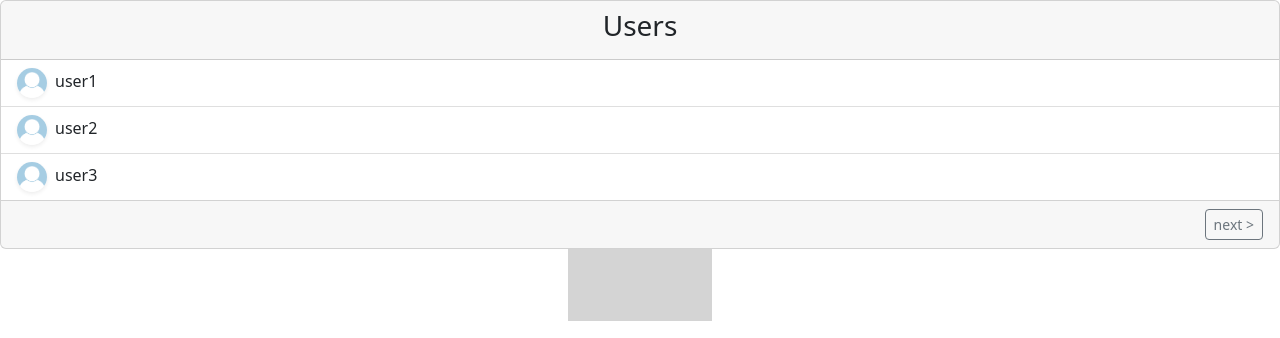
Test: User List › Interactions › displays previous page after clicking previous page link
Expected: the list item "user1" is shown, [1,60,1279,107]
Click the button "next >": (1234, 224) [1205,209,1263,240]
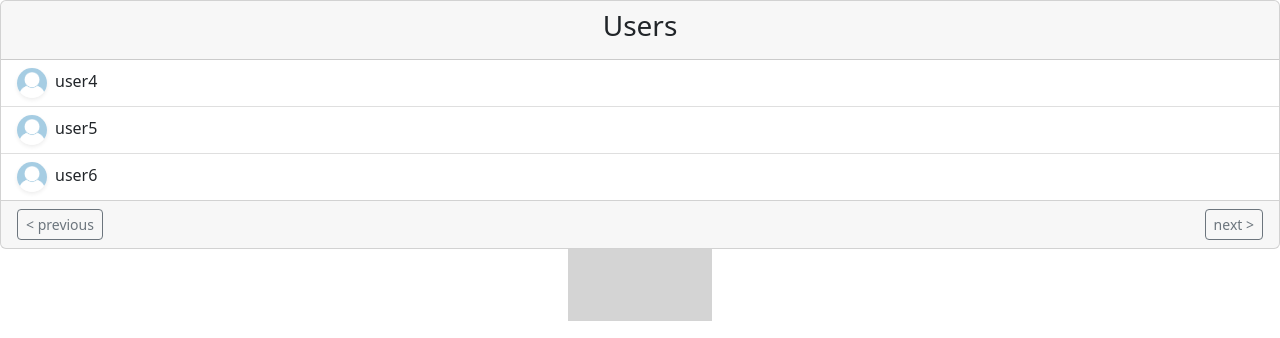
Result: the list item "user4" is shown at [1,60,1279,107]
Click the button "< previous": (60, 224) [17,209,103,240]
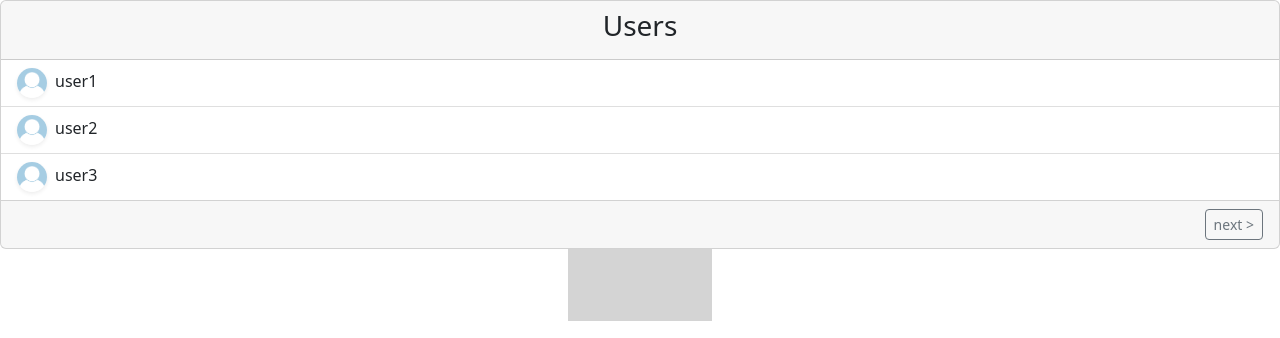
Result: the list item "user1" is shown at [1,60,1279,107]
